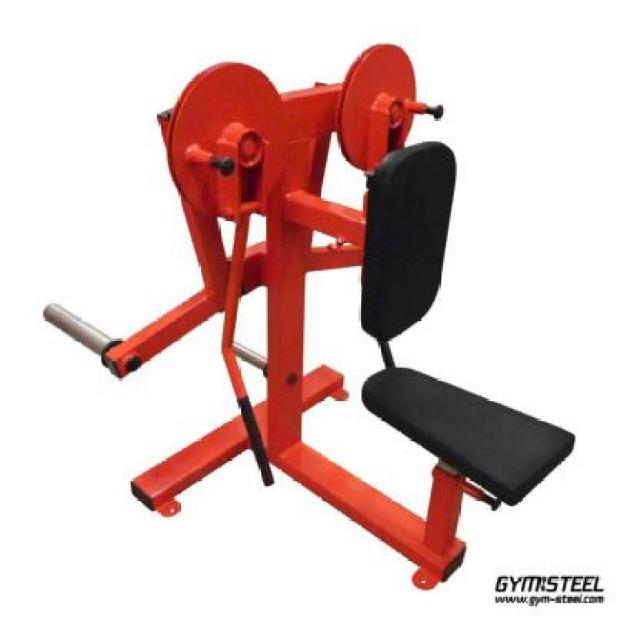lateral raises machine: (47, 40, 576, 572)
